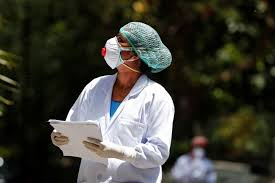mask: (101, 20, 150, 74)
